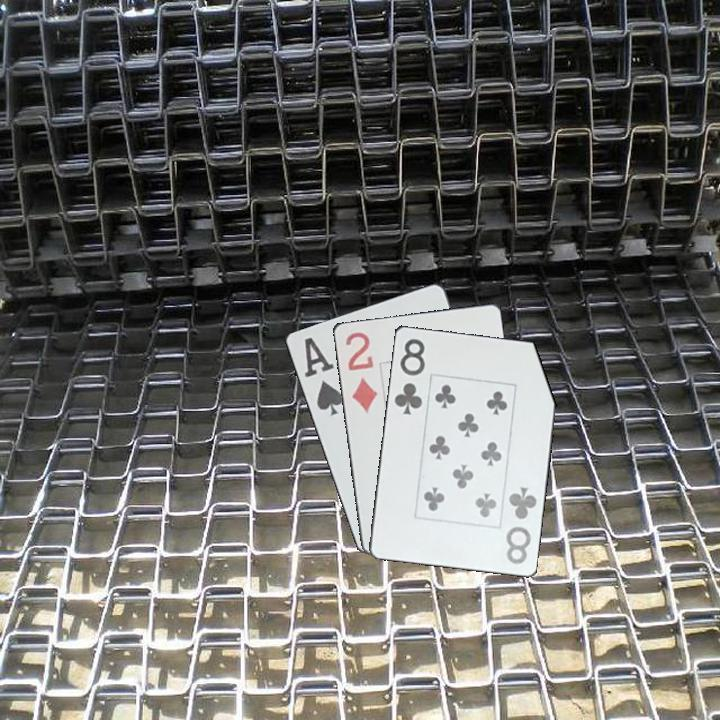2d: (341, 328, 380, 416)
8c: (390, 334, 428, 418), (502, 483, 540, 567)
As: (300, 333, 346, 419)
